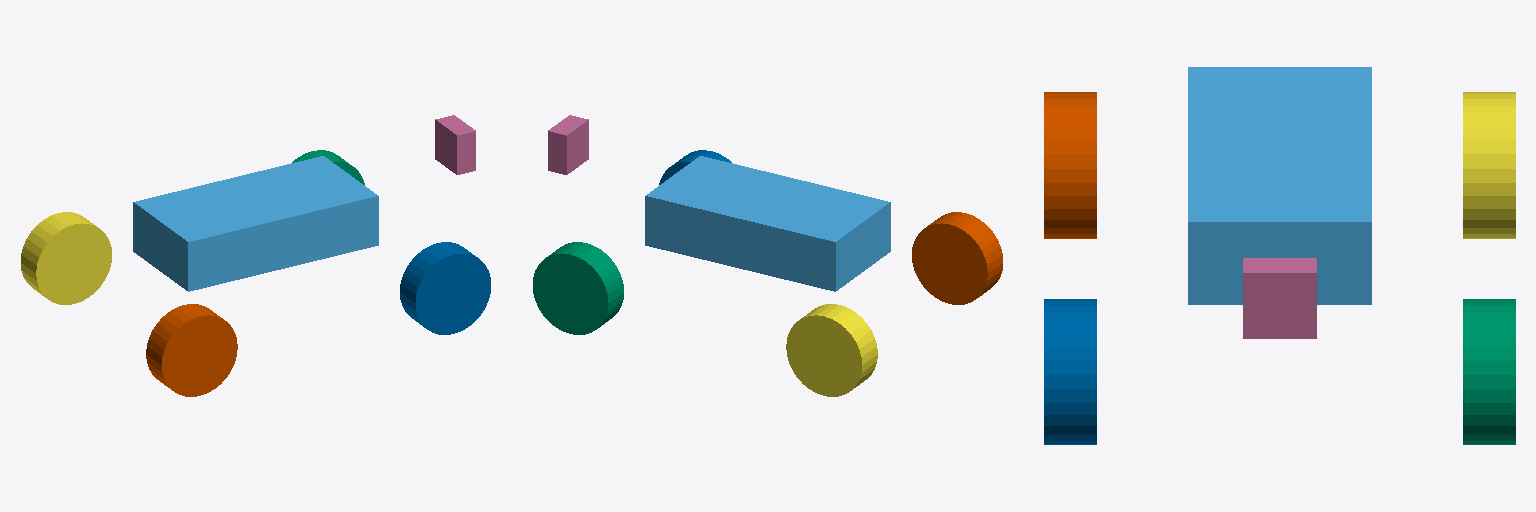
URDF robot description (ekalavya):
<?xml version="1.0" ?>
<robot name="ekalavya">
  <!-- i can put this macros in another file -->
  <!-- end of macros -->
  <link name="base_link"/>
  <joint name="base_to_chassis_joint" type="fixed">
    <parent link="base_link"/>
    <child link="chassis_link"/>
    <origin rpy="0.0 0.0 0.0" xyz="1.0 0.0 0.25"/>
  </joint>
  <link name="chassis_link">
    <visual>
      <origin rpy="0.0 0.0 0.0" xyz="0.0 0.0 0.0"/>
      <geometry>
        <box size="1 0.5 0.25"/>
      </geometry>
    </visual>
    <collision>
      <origin rpy="0.0 0.0 0.0" xyz="0.0 0.0 0.0"/>
      <geometry>
        <box size="1 0.5 0.25"/>
      </geometry>
    </collision>
    <inertial>
      <origin rpy="0 0 0" xyz="0.0 0 0"/>
      <mass value="1"/>
      <inertia ixx="0.10416666666666666" ixy="0.0" ixz="0.0" iyy="0.35416666666666663" iyz="0.0" izz="0.41666666666666663"/>
    </inertial>
  </link>
  <!-- left wheel1 -->
  <joint name="chassis_to_left_wheel1_joint" type="continuous">
    <parent link="chassis_link"/>
    <child link="left_wheel1_link"/>
    <axis xyz="0 0 1"/>
    <origin rpy="-1.5707963267948966 0 0" xyz="0.6666666666666666 0.5714285714285714 -0.25"/>
  </joint>
  <link name="left_wheel1_link">
    <visual>
      <origin rpy="0.0 0.0 0.0" xyz="0.0 0.0 0.0"/>
      <geometry>
        <cylinder length="0.14285714285714285" radius="0.2"/>
      </geometry>
    </visual>
    <collision>
      <origin rpy="0.0 0.0 0.0" xyz="0.0 0.0 0.0"/>
      <geometry>
        <cylinder length="0.14285714285714285" radius="0.2"/>
      </geometry>
    </collision>
    <inertial>
      <origin rpy="0.0 0.0 0.0" xyz="0.0 0.0 0.0"/>
      <mass value="0.25"/>
      <inertia ixx="0.002925170068027211" ixy="0.0" ixz="0.0" iyy="0.002925170068027211" iyz="0.0" izz="0.005000000000000001"/>
    </inertial>
  </link>
  <!-- left wheel2 -->
  <joint name="chassis_to_left_wheel2_joint" type="continuous">
    <parent link="chassis_link"/>
    <child link="left_wheel2_link"/>
    <axis xyz="0 0 1"/>
    <origin rpy="-1.5707963267948966 0 0" xyz="-0.6666666666666666 0.5714285714285714 -0.25"/>
  </joint>
  <link name="left_wheel2_link">
    <visual>
      <origin rpy="0.0 0.0 0.0" xyz="0.0 0.0 0.0"/>
      <geometry>
        <cylinder length="0.14285714285714285" radius="0.2"/>
      </geometry>
    </visual>
    <collision>
      <origin rpy="0.0 0.0 0.0" xyz="0.0 0.0 0.0"/>
      <geometry>
        <cylinder length="0.14285714285714285" radius="0.2"/>
      </geometry>
    </collision>
    <inertial>
      <origin rpy="0.0 0.0 0.0" xyz="0.0 0.0 0.0"/>
      <mass value="0.25"/>
      <inertia ixx="0.002925170068027211" ixy="0.0" ixz="0.0" iyy="0.002925170068027211" iyz="0.0" izz="0.005000000000000001"/>
    </inertial>
  </link>
  <!-- right wheel1 -->
  <joint name="chassis_to_right_wheel1_joint" type="continuous">
    <parent link="chassis_link"/>
    <child link="right_wheel1_link"/>
    <axis xyz="0 0 -1"/>
    <origin rpy="1.5707963267948966 0 0" xyz="0.6666666666666666 -0.5714285714285714 -0.25"/>
  </joint>
  <link name="right_wheel1_link">
    <visual>
      <origin rpy="0.0 0.0 0.0" xyz="0.0 0.0 0.0"/>
      <geometry>
        <cylinder length="0.14285714285714285" radius="0.2"/>
      </geometry>
    </visual>
    <collision>
      <origin rpy="0.0 0.0 0.0" xyz="0.0 0.0 0.0"/>
      <geometry>
        <cylinder length="0.14285714285714285" radius="0.2"/>
      </geometry>
    </collision>
    <inertial>
      <origin rpy="0.0 0.0 0.0" xyz="0.0 0.0 0.0"/>
      <mass value="0.25"/>
      <inertia ixx="0.002925170068027211" ixy="0.0" ixz="0.0" iyy="0.002925170068027211" iyz="0.0" izz="0.005000000000000001"/>
    </inertial>
  </link>
  <!-- left wheel2 -->
  <joint name="chassis_to_right_wheel2_joint" type="continuous">
    <parent link="chassis_link"/>
    <child link="right_wheel2_link"/>
    <axis xyz="0 0 -1"/>
    <origin rpy="1.5707963267948966 0 0" xyz="-0.6666666666666666 -0.5714285714285714 -0.25"/>
  </joint>
  <link name="right_wheel2_link">
    <visual>
      <origin rpy="0.0 0.0 0.0" xyz="0.0 0.0 0.0"/>
      <geometry>
        <cylinder length="0.14285714285714285" radius="0.2"/>
      </geometry>
    </visual>
    <collision>
      <origin rpy="0.0 0.0 0.0" xyz="0.0 0.0 0.0"/>
      <geometry>
        <cylinder length="0.14285714285714285" radius="0.2"/>
      </geometry>
    </collision>
    <inertial>
      <origin rpy="0.0 0.0 0.0" xyz="0.0 0.0 0.0"/>
      <mass value="0.25"/>
      <inertia ixx="0.002925170068027211" ixy="0.0" ixz="0.0" iyy="0.002925170068027211" iyz="0.0" izz="0.005000000000000001"/>
    </inertial>
  </link>
  <joint name="chassis_to_camera_joint" type="fixed">
    <parent link="chassis_link"/>
    <child link="camera_link"/>
    <origin rpy="0.0 0.0 0.0" xyz="1.05 0 0.15"/>
  </joint>
  <link name="camera_link">
    <visual>
      <origin rpy="0.0 0.0 0.0" xyz="0.0 0.0 0.0"/>
      <geometry>
        <box size="0.1 0.2 0.2"/>
      </geometry>
    </visual>
    <inertial>
      <origin rpy="0 0 0" xyz="0.0 0 0"/>
      <mass value="0.1"/>
      <inertia ixx="0.0006666666666666668" ixy="0.0" ixz="0.0" iyy="0.00041666666666666675" iyz="0.0" izz="0.00041666666666666675"/>
    </inertial>
  </link>
</robot>

--- Render facts (derived) ---
The picture shows the robot from 3 angles, left to right: view 1: azimuth 30°, elevation 25°; view 2: azimuth 150°, elevation 25°; view 3: azimuth 270°, elevation 25°; orthographic projection.
Robot: ekalavya — 7 links, 6 joints (4 continuous, 2 fixed); root link base_link; default pose: all joints at 0.
Links seen in each view (by area): view 1: chassis_link, right_wheel2_link, left_wheel2_link, right_wheel1_link, camera_link, left_wheel1_link; view 2: chassis_link, left_wheel2_link, right_wheel2_link, left_wheel1_link, camera_link, right_wheel1_link; view 3: chassis_link, left_wheel2_link, right_wheel2_link, left_wheel1_link, right_wheel1_link, camera_link.
Boxes of the visible links, x1,y1,x2,y2 form: chassis_link: (133, 156, 378, 291); right_wheel2_link: (146, 304, 237, 396); left_wheel2_link: (21, 212, 111, 304); right_wheel1_link: (400, 242, 490, 334); camera_link: (435, 115, 475, 174); left_wheel1_link: (292, 150, 364, 184); chassis_link: (645, 156, 890, 291); left_wheel2_link: (786, 304, 877, 396); right_wheel2_link: (912, 212, 1002, 304); left_wheel1_link: (533, 242, 623, 334); camera_link: (548, 115, 588, 174); right_wheel1_link: (659, 150, 731, 184); chassis_link: (1188, 67, 1371, 304); left_wheel2_link: (1463, 92, 1515, 238); right_wheel2_link: (1044, 92, 1096, 238); left_wheel1_link: (1463, 299, 1515, 444); right_wheel1_link: (1044, 299, 1096, 444); camera_link: (1243, 258, 1316, 338).
Bounding box of the posed robot: 1.97 × 1.29 × 0.7 m (x, y, z).
Geometry: primitives only (box / cylinder / sphere), no mesh files.
